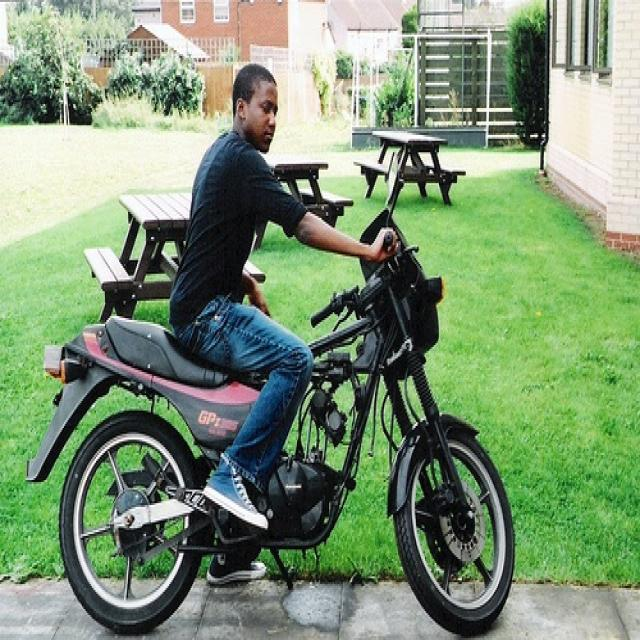motorbike: (31, 206, 514, 638)
